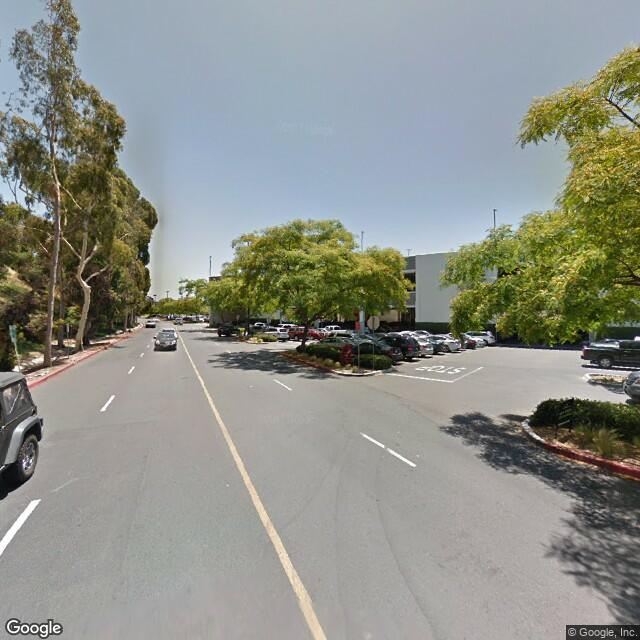litter: (591, 465, 602, 469)
